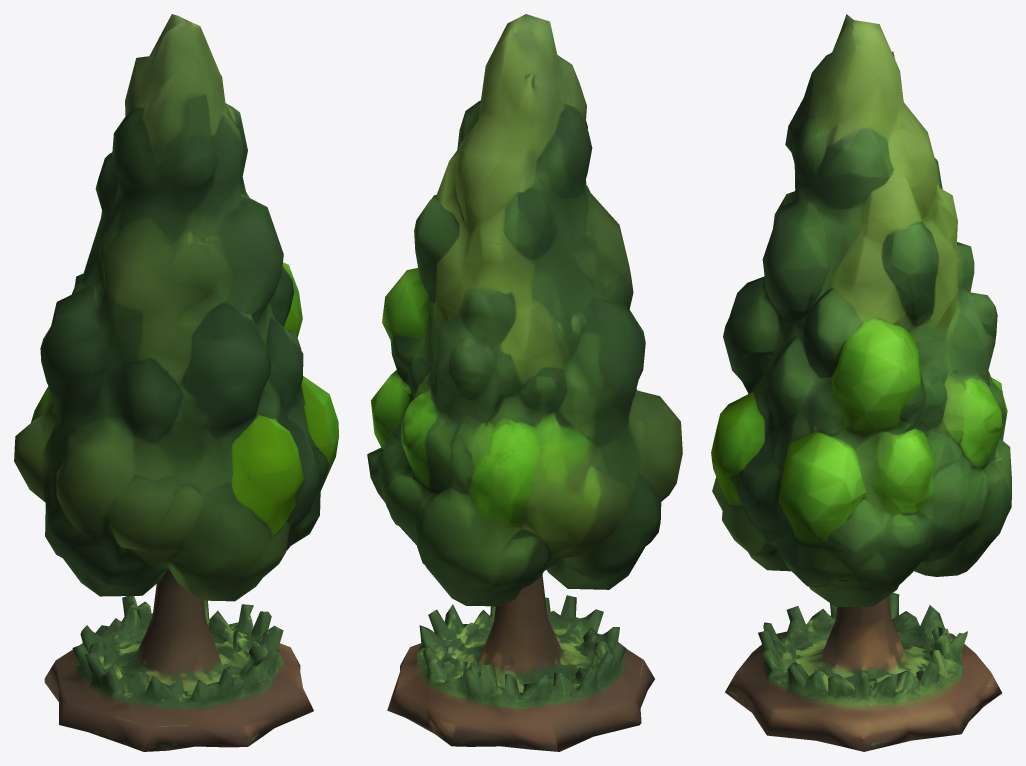
Rendered from Meshy_AI_arbre_0309132215_texture.glb.
The picture shows the model from 3 angles, left to right: view 1: azimuth 30°, elevation 25°; view 2: azimuth 150°, elevation 25°; view 3: azimuth 270°, elevation 25°; orthographic projection.
Parts seen in each view (by area): view 1: Mesh1.0; view 2: Mesh1.0; view 3: Mesh1.0.
Boxes of the visible parts, x1,y1,x2,y2 form: Mesh1.0: (14, 14, 338, 751); Mesh1.0: (367, 14, 682, 751); Mesh1.0: (711, 14, 1011, 751).
Bounding box in the file's own units: 0.8066 × 1.94 × 0.782.
1 material, 1 textured.
